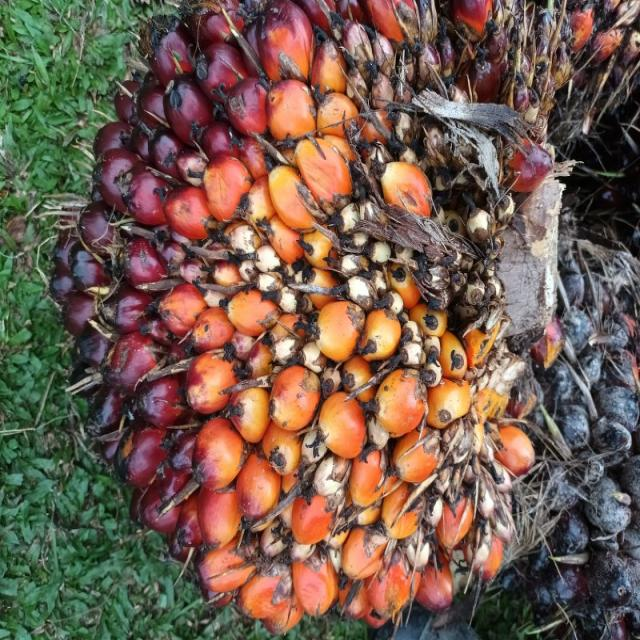fraksi 1: (18, 34, 480, 640)
